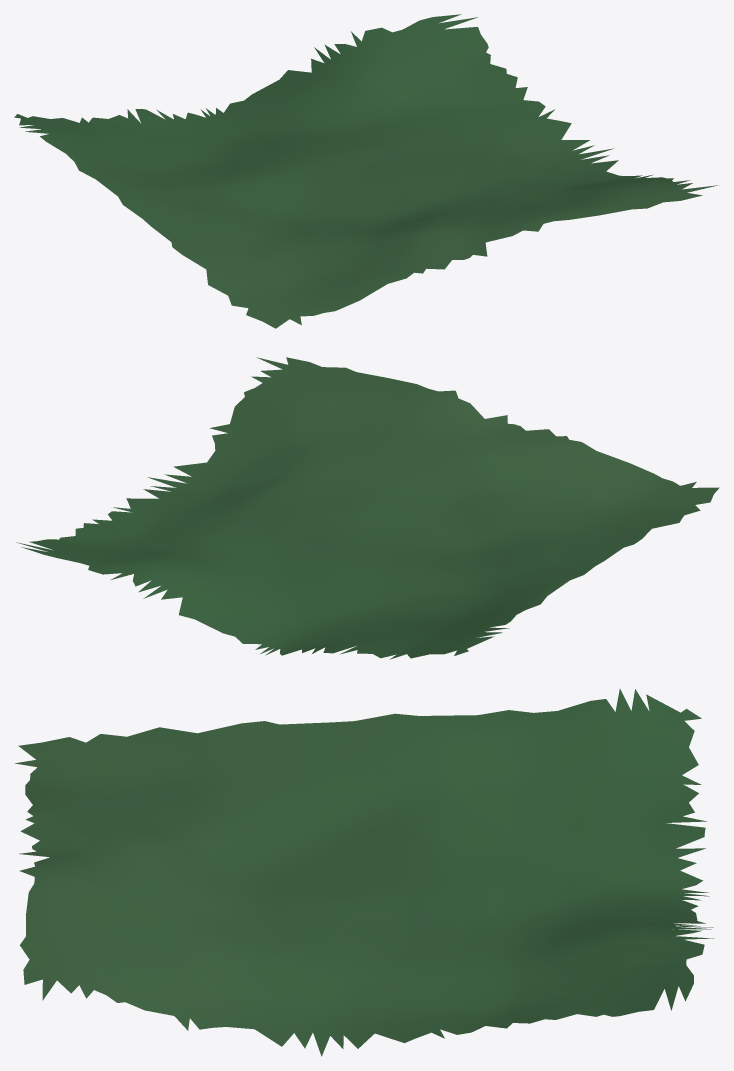
The model's file is payo_land_x2_y8_lod1.glb.
3 renders of one model, top to bottom at view 1: azimuth 30°, elevation 25°; view 2: azimuth 150°, elevation 25°; view 3: azimuth 270°, elevation 25°, orthographic. The views are drawn at different scales.
Visible parts, largest first — view 1: payo_land_x2_y8; view 2: payo_land_x2_y8; view 3: payo_land_x2_y8.
Part boxes in pixels (x1,y1,x2,y2): payo_land_x2_y8: [14, 14, 719, 328]; payo_land_x2_y8: [16, 357, 719, 659]; payo_land_x2_y8: [15, 689, 714, 1056].
Size of the model in its own units: 278 by 30.02 by 272.
